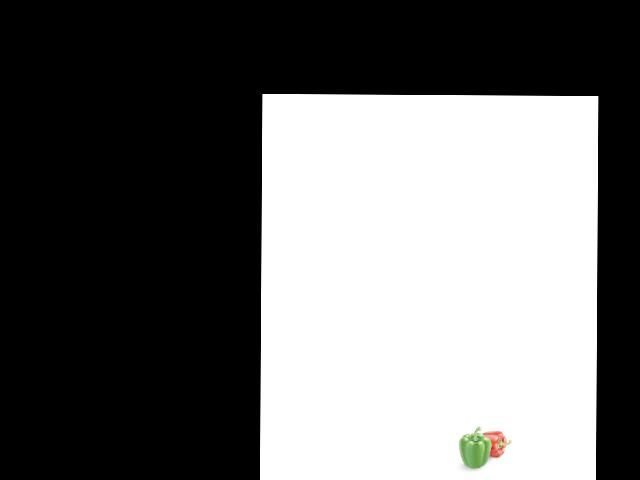bell_pepper: (481, 427, 511, 456)
